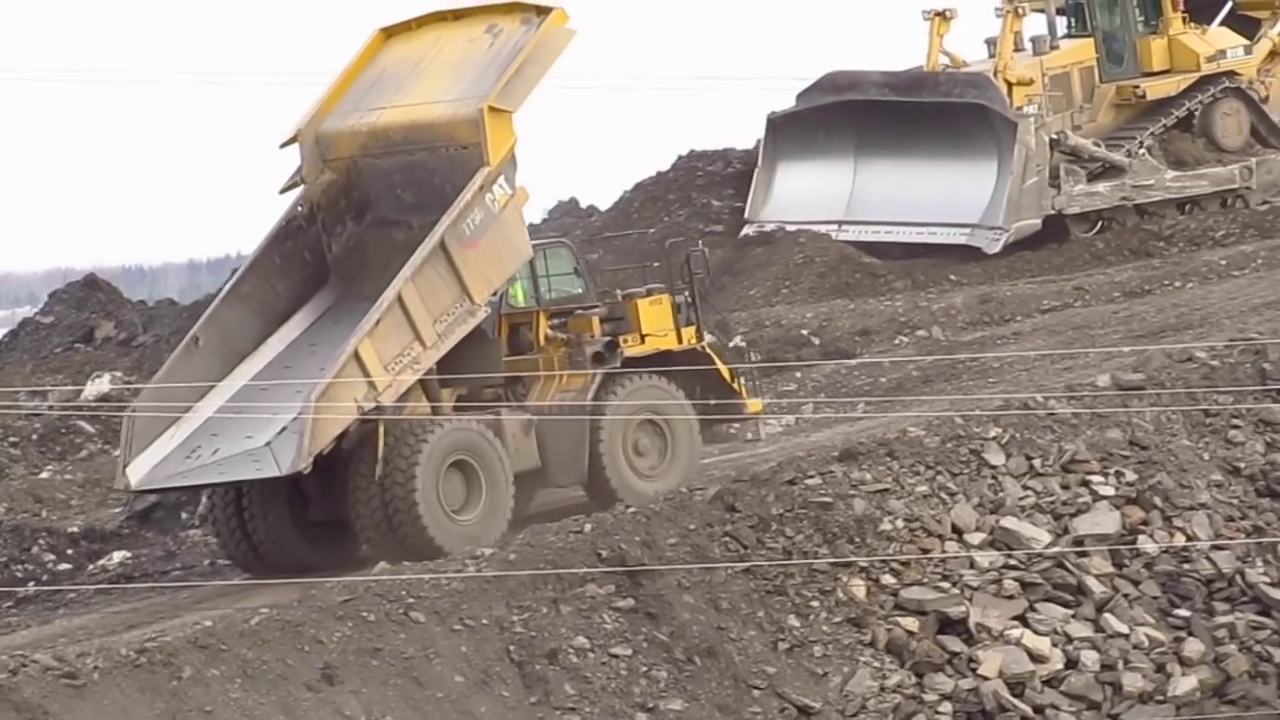dumper: (113, 4, 764, 557)
wheel loader: (740, 1, 1279, 255)
